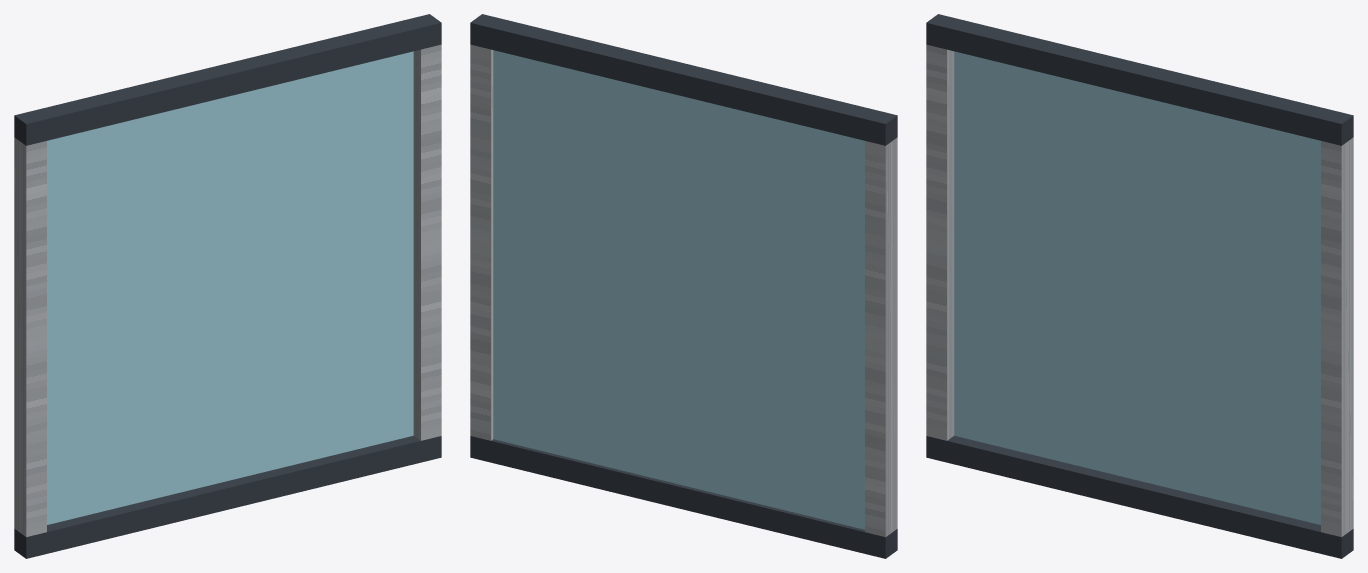
File: glass-2x2.glb
The picture shows the model from 3 angles, left to right: view 1: azimuth 30°, elevation 25°; view 2: azimuth 150°, elevation 25°; view 3: azimuth 330°, elevation 25°; orthographic projection.
Parts seen in each view (by area): view 1: Glass2x2; view 2: Glass2x2; view 3: Glass2x2.
Part boxes in pixels (x1=…): Glass2x2: x1=14, y1=14, x2=441, y2=558; Glass2x2: x1=470, y1=14, x2=897, y2=558; Glass2x2: x1=926, y1=14, x2=1353, y2=558.
Bounding box in the file's own units: 2 × 2 × 0.1.
Materials: 3 (1 with a texture image).
